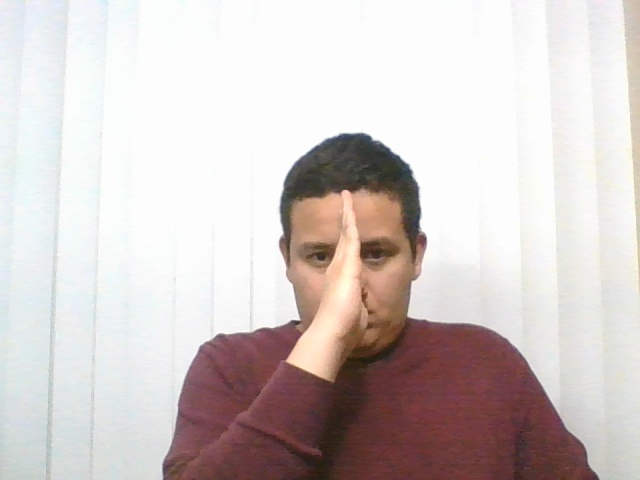God: (241, 179, 438, 379)
